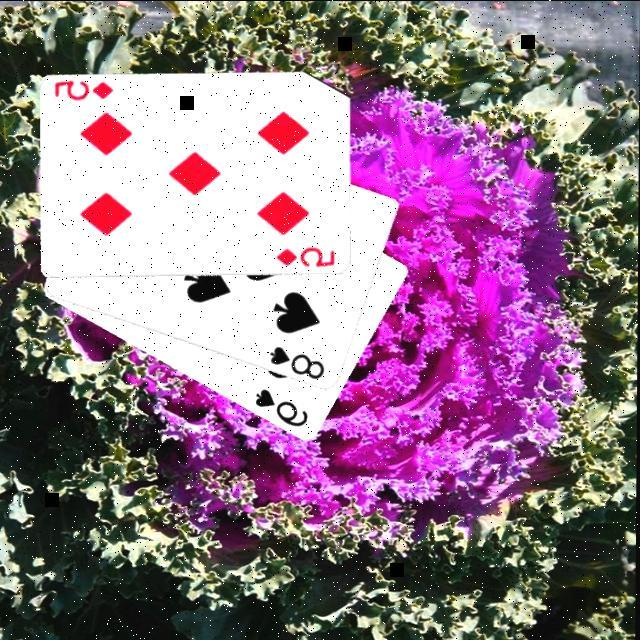5D: (276, 245, 340, 271), (54, 80, 118, 104)
6S: (254, 388, 314, 432)
8S: (268, 344, 330, 384)
